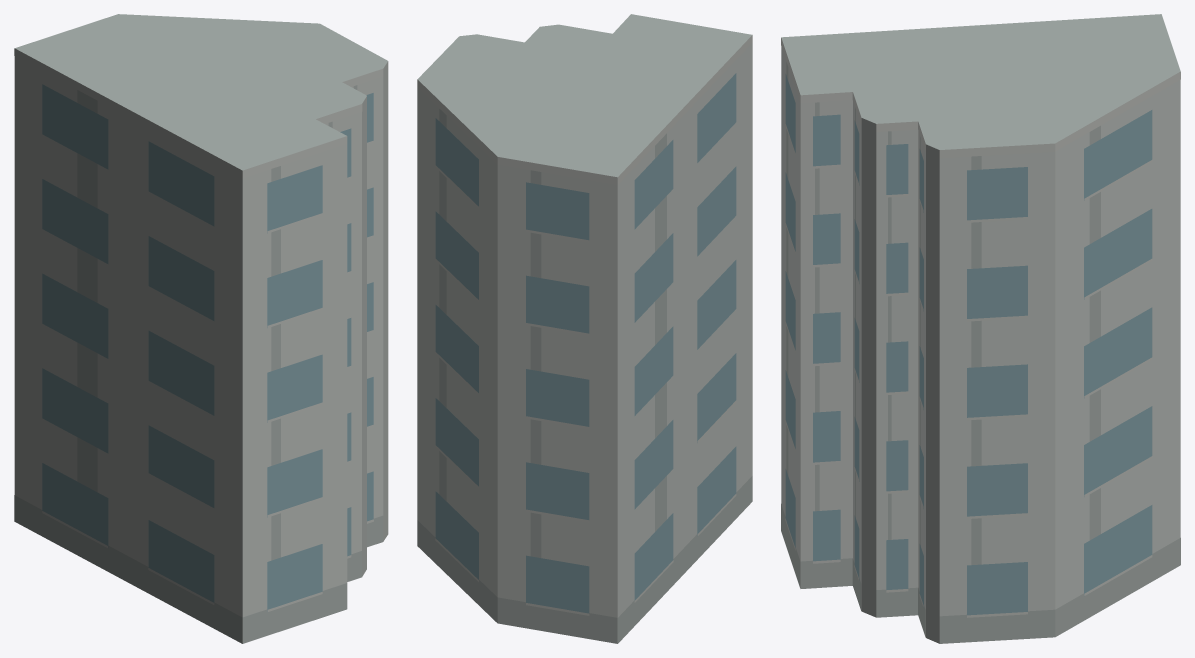
The model's file is survey-upis-32640652.glb.
3 renders of one model, left to right at view 1: azimuth 30°, elevation 25°; view 2: azimuth 150°, elevation 25°; view 3: azimuth 270°, elevation 25°, orthographic. The views are drawn at different scales.
Parts seen in each view (by area): view 1: survey-upis-32640652.tmp; view 2: survey-upis-32640652.tmp; view 3: survey-upis-32640652.tmp.
Boxes of the visible parts, x1,y1,x2,y2 form: survey-upis-32640652.tmp: (14, 14, 388, 643); survey-upis-32640652.tmp: (417, 14, 752, 643); survey-upis-32640652.tmp: (781, 14, 1180, 643).
Size of the model in its own units: 8.64 by 14.6 by 10.72.
